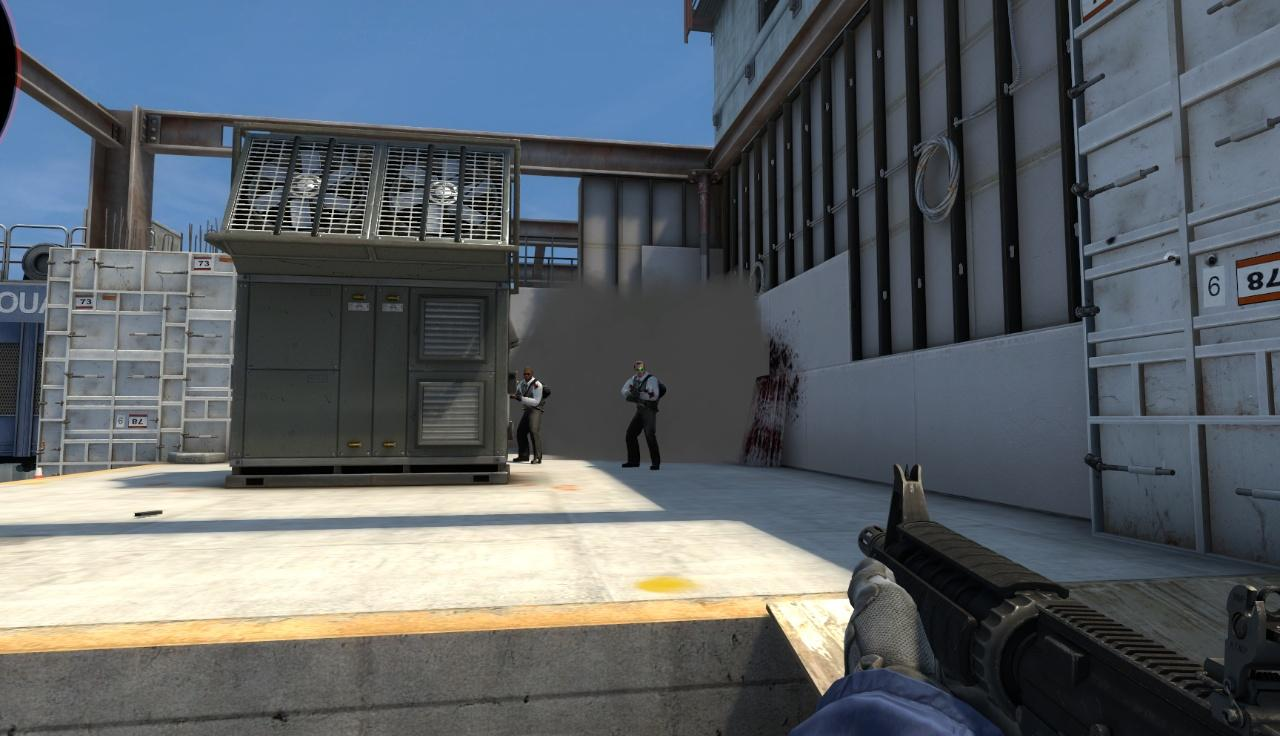rifle: (837, 462, 1279, 730)
tt: (619, 362, 662, 469), (508, 365, 546, 465)
tthead: (634, 362, 645, 377), (522, 368, 534, 381)
